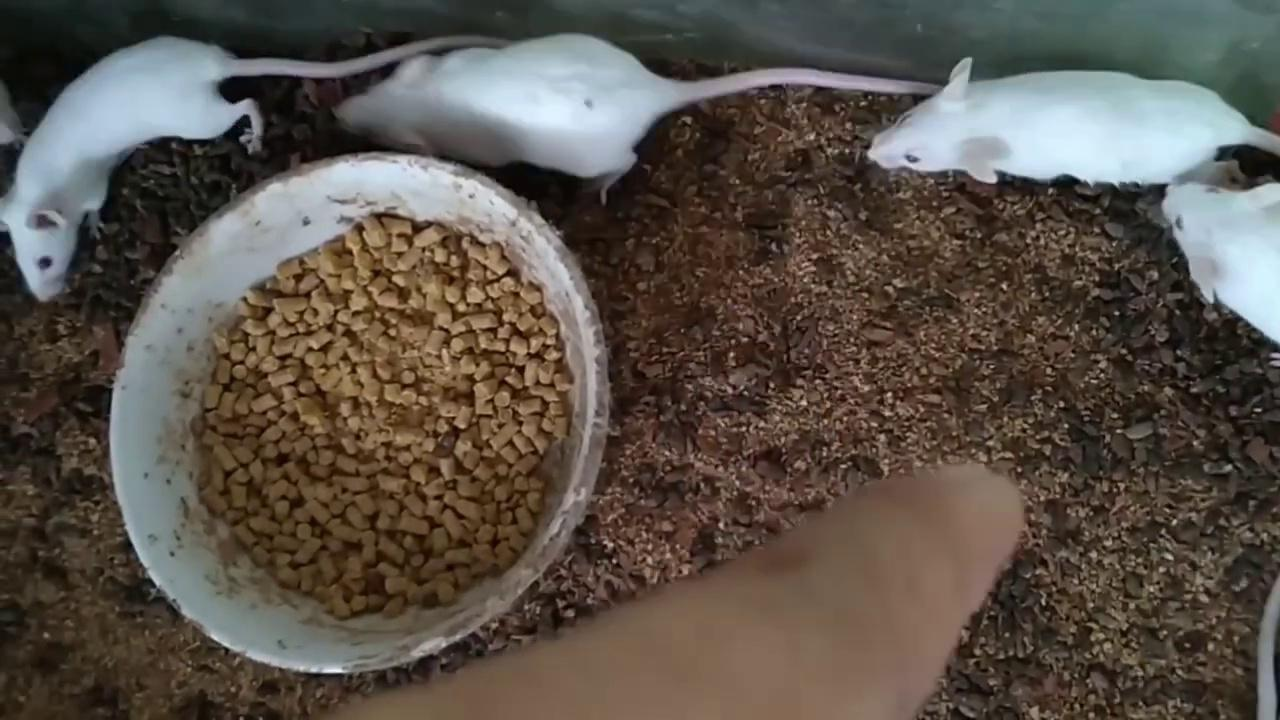rat: (0, 35, 504, 302), (333, 34, 943, 201), (868, 58, 1280, 183), (1164, 184, 1280, 367)
